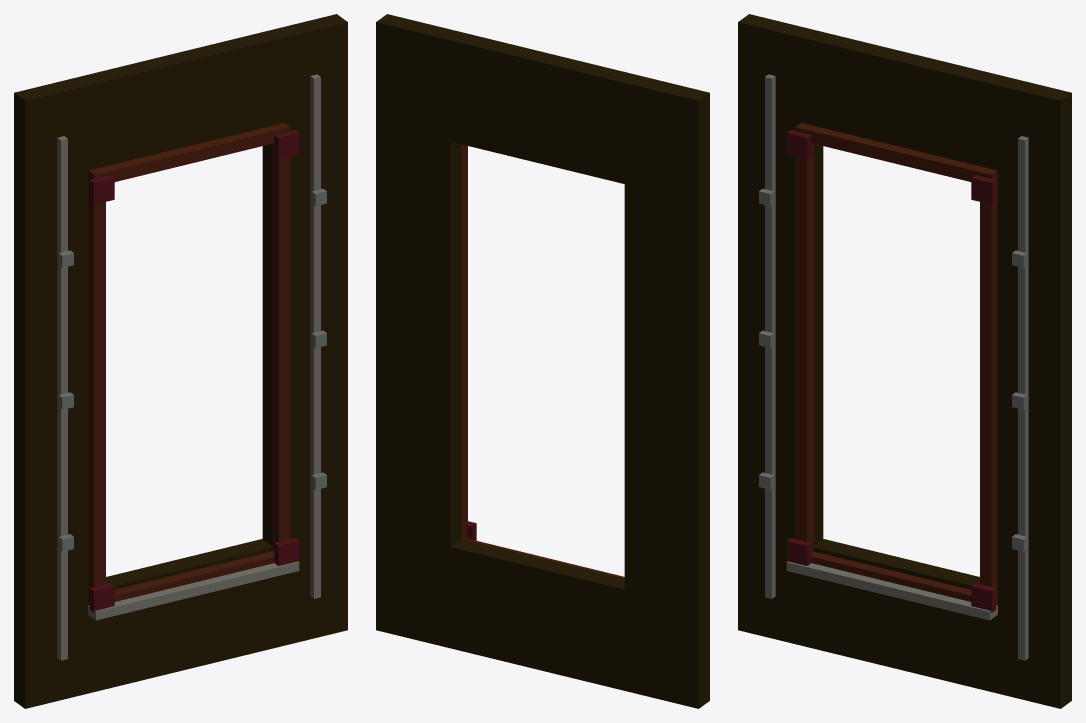
Rendered from env_base99_wall_window_5x9_visual_top3d_v001.glb.
The picture shows the model from 3 angles, left to right: view 1: azimuth 30°, elevation 25°; view 2: azimuth 150°, elevation 25°; view 3: azimuth 330°, elevation 25°; orthographic projection.
Parts seen in each view (by area): view 1: 带窗墙体_主体_金属哑光反光; view 2: 带窗墙体_主体_金属哑光反光; view 3: 带窗墙体_主体_金属哑光反光.
Boxes of the visible parts, bbox=[...] form: 带窗墙体_主体_金属哑光反光: bbox=[14, 14, 347, 708]; 带窗墙体_主体_金属哑光反光: bbox=[376, 14, 709, 708]; 带窗墙体_主体_金属哑光反光: bbox=[738, 14, 1071, 708].
Bounding box in the file's own units: 5 × 9 × 0.6.
2 materials, 2 textured.
